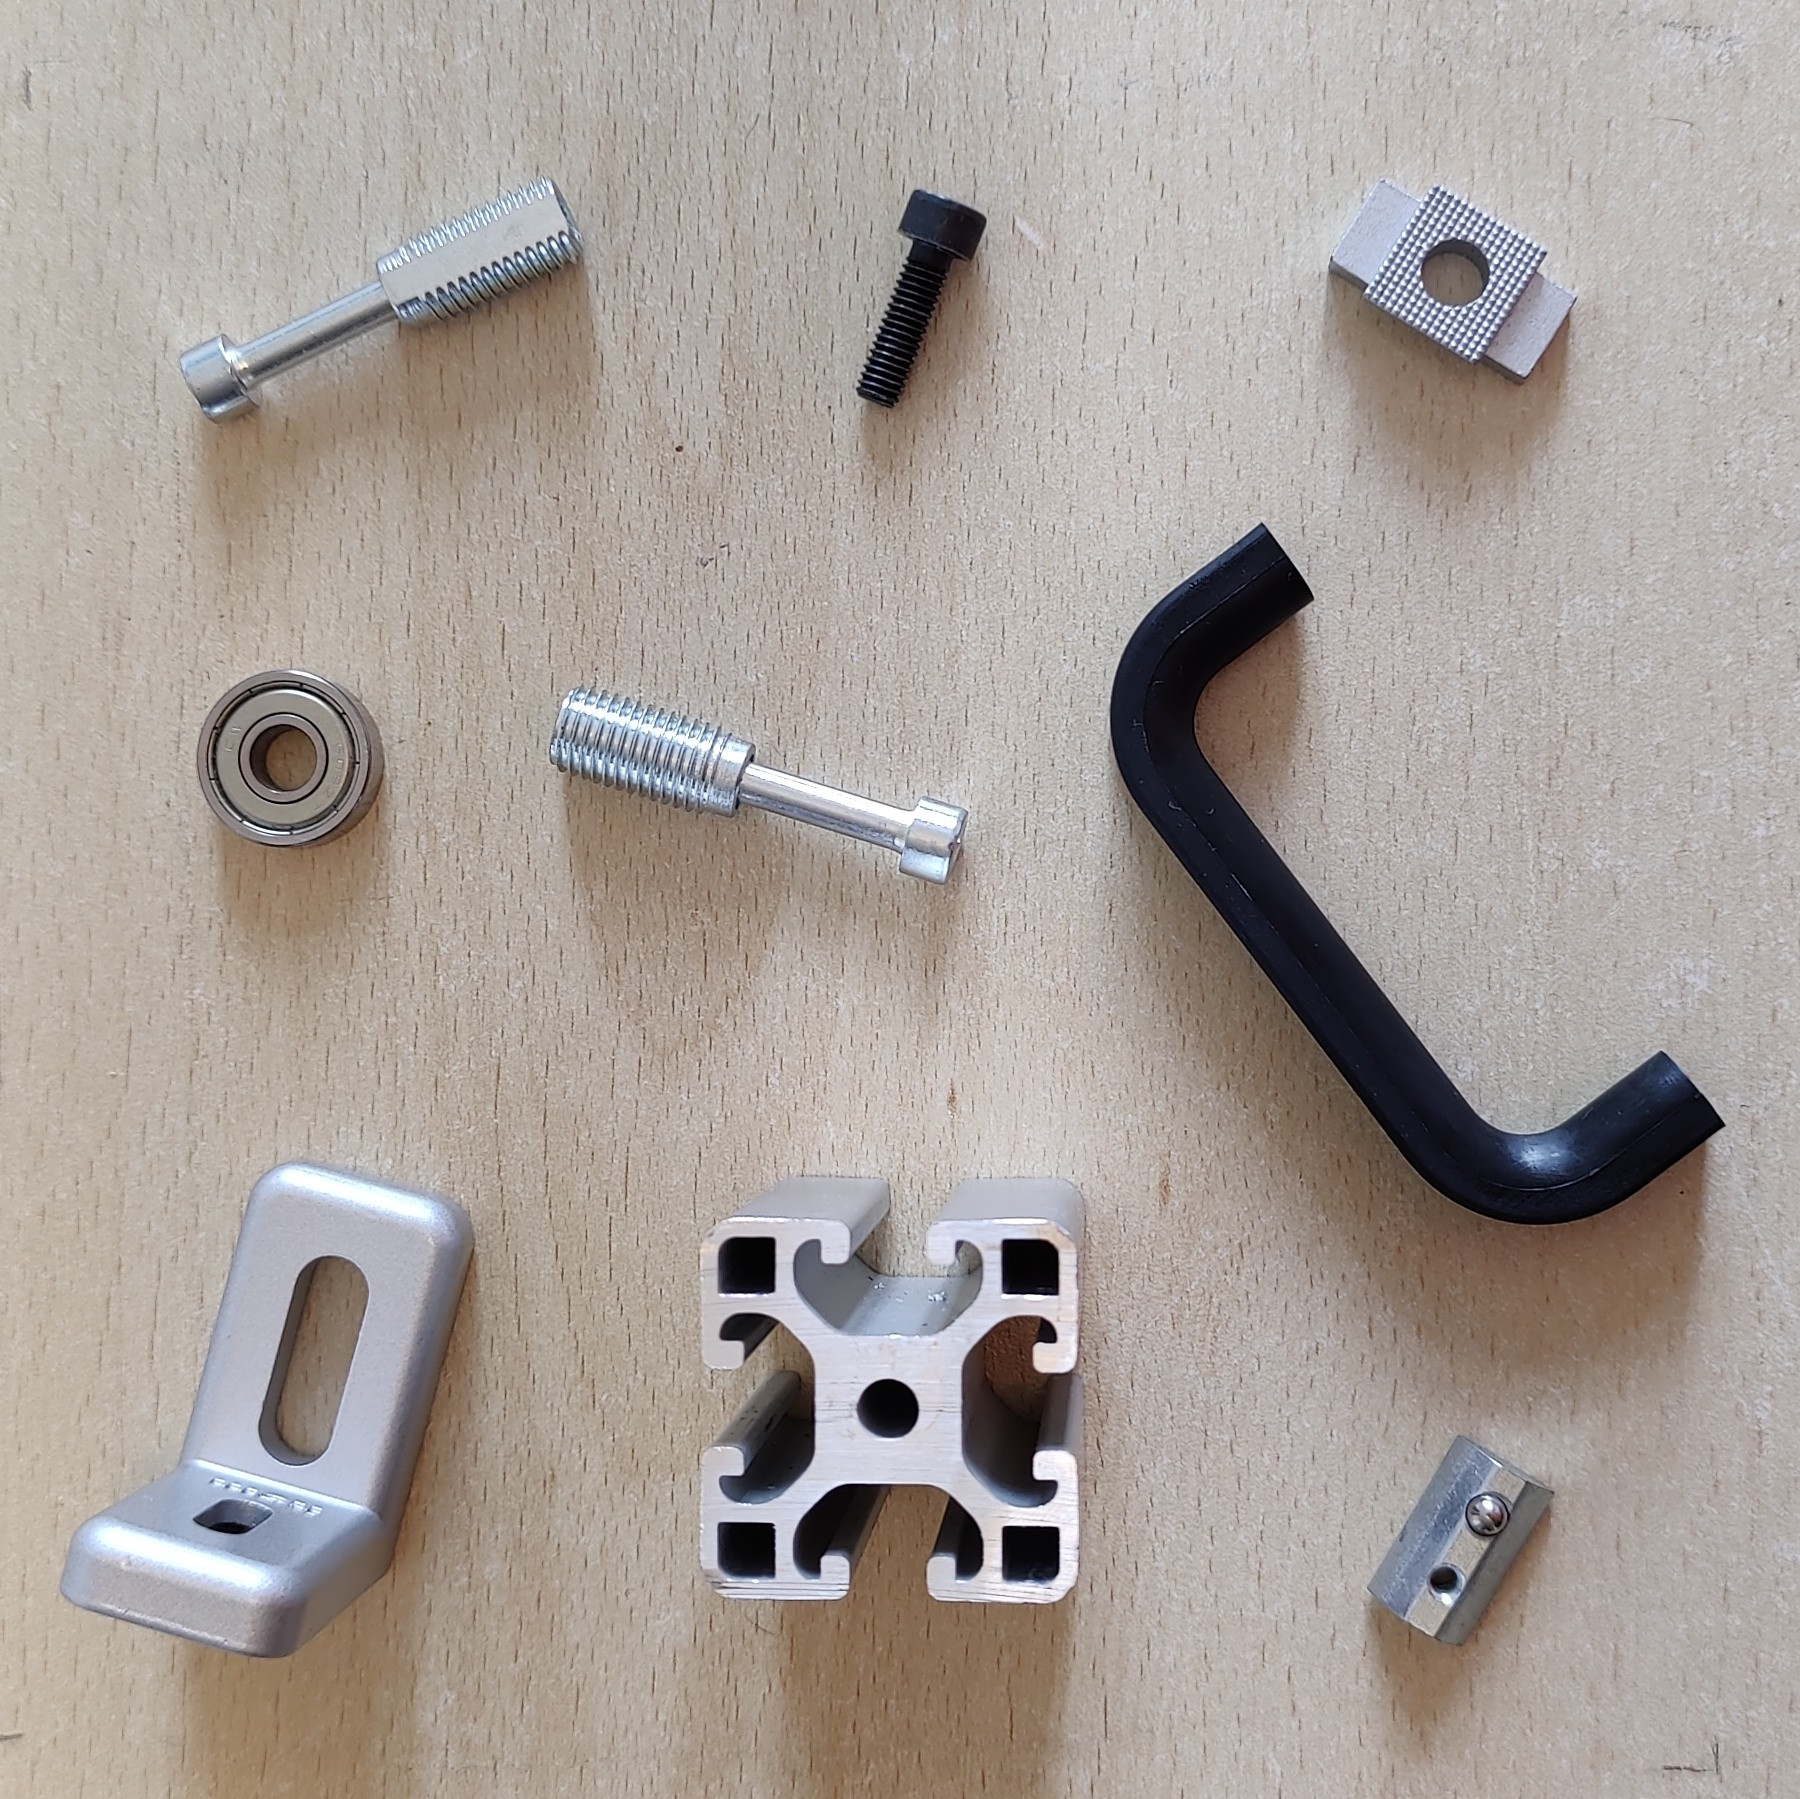Aluminium Extension: (697, 1171, 1090, 1608)
Ball Bearing: (194, 666, 385, 850)
Multiwinkel: (58, 1156, 478, 1661)
Pull Handle: (1108, 517, 1728, 1227)
Shoulder Socket Head Cap Screw: (176, 168, 590, 430), (547, 680, 972, 886)
Socket Head Cap Screw: (855, 185, 990, 410)
T Nut Square: (1326, 176, 1581, 387)
T Spring Nut: (1365, 1430, 1556, 1649)
